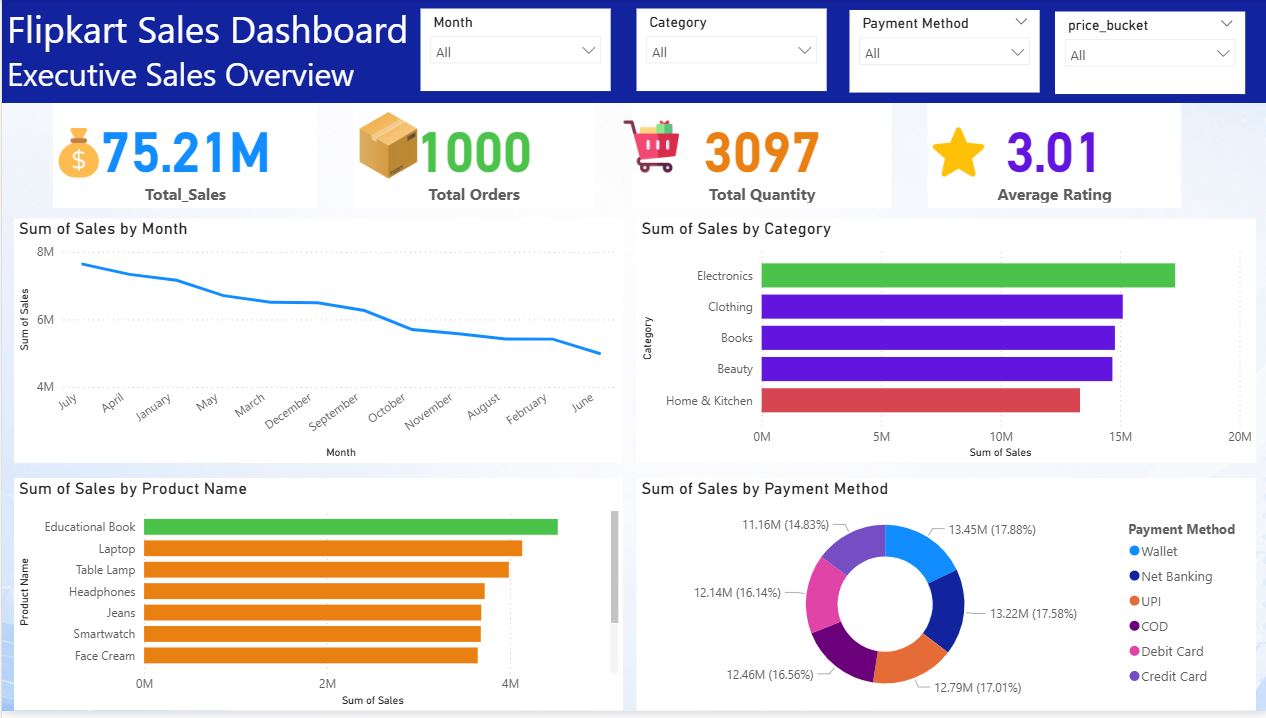

What the dashboard file says about the page in this screenshot:
{"tool":"powerbi","page":{"name":"Executive Sales Overview","canvas":[1280,720],"ordinal":0},"visuals":[{"type":"card","fields":{"Values":["flipkart_sales_cleaned.Total_Sales"]},"box":[51.5,106,266.5,106],"z":0},{"type":"card","fields":{"Values":["flipkart_sales_cleaned.Total Orders"]},"box":[354.8,106,243.8,106],"z":1000},{"type":"card","fields":{"Values":["flipkart_sales_cleaned.Total Quantity"]},"box":[635.5,106,262,106],"z":2000},{"type":"card","fields":{"Values":["flipkart_sales_cleaned.Average Rating"]},"box":[934.3,106,255.9,106],"z":3000},{"type":"lineChart","fields":{"Category":["flipkart_sales_cleaned.Month"],"Y":["Sum(flipkart_sales_cleaned.Sales)"]},"box":[12.1,222.6,614.8,246.8],"z":4000},{"type":"clusteredBarChart","fields":{"Category":["flipkart_sales_cleaned.Category"],"Y":["Sum(flipkart_sales_cleaned.Sales)"]},"box":[640.5,222.6,625.4,246.8],"z":5000},{"type":"barChart","fields":{"Category":["flipkart_sales_cleaned.Product Name"],"Y":["Sum(flipkart_sales_cleaned.Sales)"]},"box":[12.1,484.5,614.8,234.7],"z":6000},{"type":"donutChart","fields":{"Y":["Sum(flipkart_sales_cleaned.Sales)"],"Category":["flipkart_sales_cleaned.Payment Method"]},"box":[640.5,484.5,625.4,234.7],"z":7000},{"type":"image","box":[34.8,124.2,84.8,63.6],"z":8000},{"type":"image","box":[346.8,106,86.3,84.8],"z":9000},{"type":"image","box":[614.8,116.6,81.8,66.6],"z":10000},{"type":"image","box":[934.3,112.1,62.1,86.3],"z":11000},{"type":"textbox","box":[0,0,1279.5,106],"z":12000},{"type":"slicer","fields":{"Values":["flipkart_sales_cleaned.Month"]},"box":[422.5,10.6,192.3,83.3],"z":13000},{"type":"slicer","fields":{"Values":["flipkart_sales_cleaned.Category"]},"box":[640.5,10.6,192.3,83.3],"z":14000},{"type":"slicer","fields":{"Values":["flipkart_sales_cleaned.Payment Method"]},"box":[855.5,12.1,192.3,83.3],"z":15000},{"type":"slicer","fields":{"Values":["flipkart_sales_cleaned.price_bucket"]},"box":[1063,13.6,192.3,83.3],"z":16000}]}

Visuals, with their boxes in screenshot pixels (x1, y1, x2, y2), scaled from the page's 1280x720 canvas onto the 1266x718 screenshot:
card - flipkart_sales_cleaned.Total_Sales: {"x1": 51, "y1": 106, "x2": 315, "y2": 211}
card - flipkart_sales_cleaned.Total Orders: {"x1": 351, "y1": 106, "x2": 592, "y2": 211}
card - flipkart_sales_cleaned.Total Quantity: {"x1": 629, "y1": 106, "x2": 888, "y2": 211}
card - flipkart_sales_cleaned.Average Rating: {"x1": 924, "y1": 106, "x2": 1177, "y2": 211}
lineChart - flipkart_sales_cleaned.Month x Sum(flipkart_sales_cleaned.Sales): {"x1": 12, "y1": 222, "x2": 620, "y2": 468}
clusteredBarChart - flipkart_sales_cleaned.Category x Sum(flipkart_sales_cleaned.Sales): {"x1": 633, "y1": 222, "x2": 1252, "y2": 468}
barChart - flipkart_sales_cleaned.Product Name x Sum(flipkart_sales_cleaned.Sales): {"x1": 12, "y1": 483, "x2": 620, "y2": 717}
donutChart - Sum(flipkart_sales_cleaned.Sales) x flipkart_sales_cleaned.Payment Method: {"x1": 633, "y1": 483, "x2": 1252, "y2": 717}
image: {"x1": 34, "y1": 124, "x2": 118, "y2": 187}
image: {"x1": 343, "y1": 106, "x2": 428, "y2": 190}
image: {"x1": 608, "y1": 116, "x2": 689, "y2": 183}
image: {"x1": 924, "y1": 112, "x2": 986, "y2": 198}
textbox: {"x1": 0, "y1": 0, "x2": 1265, "y2": 106}
slicer - flipkart_sales_cleaned.Month: {"x1": 418, "y1": 11, "x2": 608, "y2": 94}
slicer - flipkart_sales_cleaned.Category: {"x1": 633, "y1": 11, "x2": 824, "y2": 94}
slicer - flipkart_sales_cleaned.Payment Method: {"x1": 846, "y1": 12, "x2": 1036, "y2": 95}
slicer - flipkart_sales_cleaned.price_bucket: {"x1": 1051, "y1": 14, "x2": 1242, "y2": 97}
